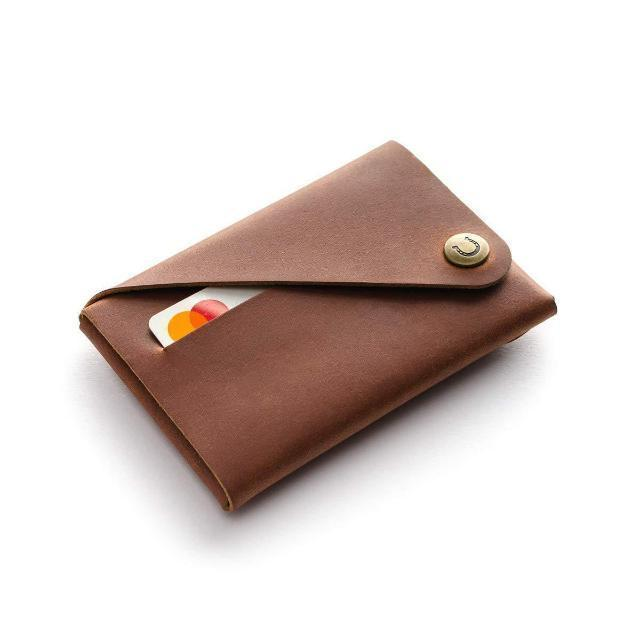cuzdan: (63, 116, 592, 530)
